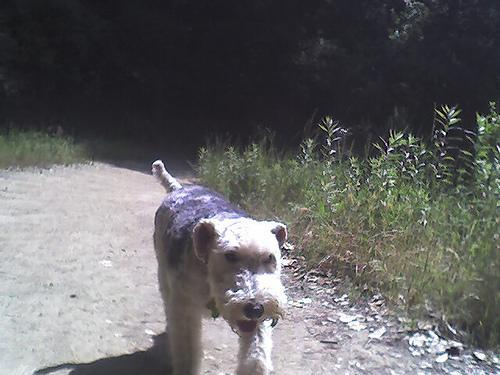wire-haired_fox_terrier: (151, 159, 287, 374)
